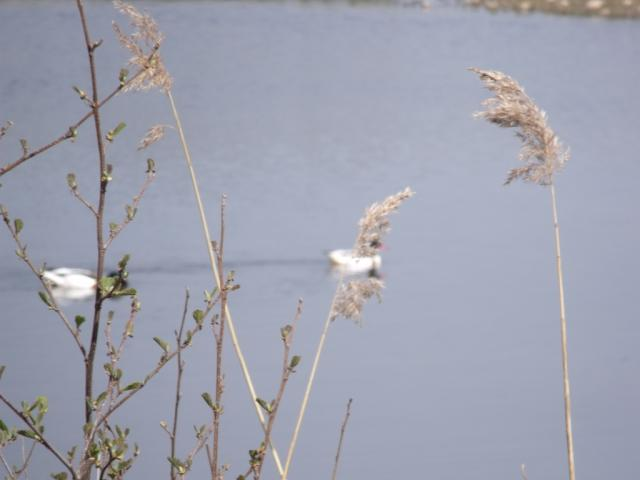Bird: (42, 268, 129, 303), (322, 238, 390, 270)
